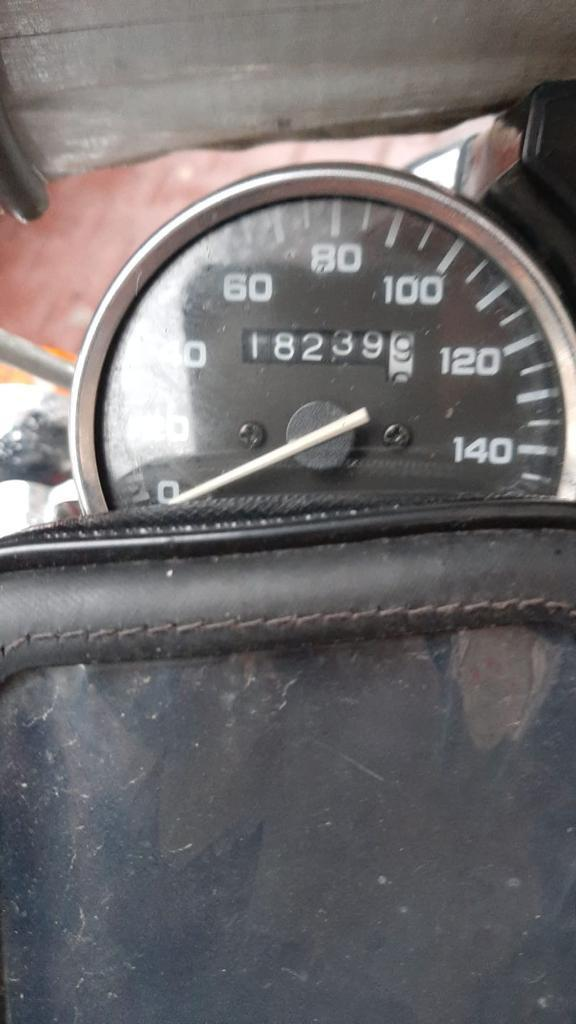1: (246, 328, 261, 364)
2: (302, 330, 323, 363)
3: (331, 328, 355, 358)
8: (271, 331, 295, 363)
9: (391, 333, 413, 366), (360, 330, 383, 361)
odometer: (238, 325, 421, 386)
